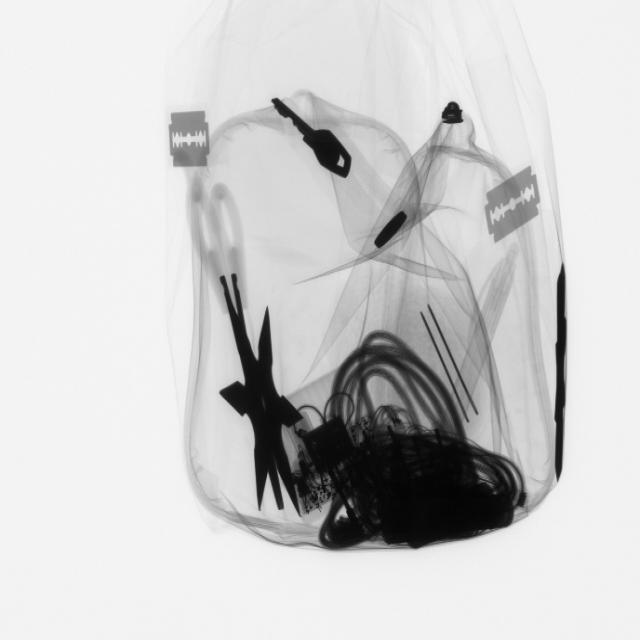BLADE: (481, 157, 547, 248), (161, 100, 219, 180)
SHURIKEN: (219, 282, 307, 524), (532, 251, 587, 498)
